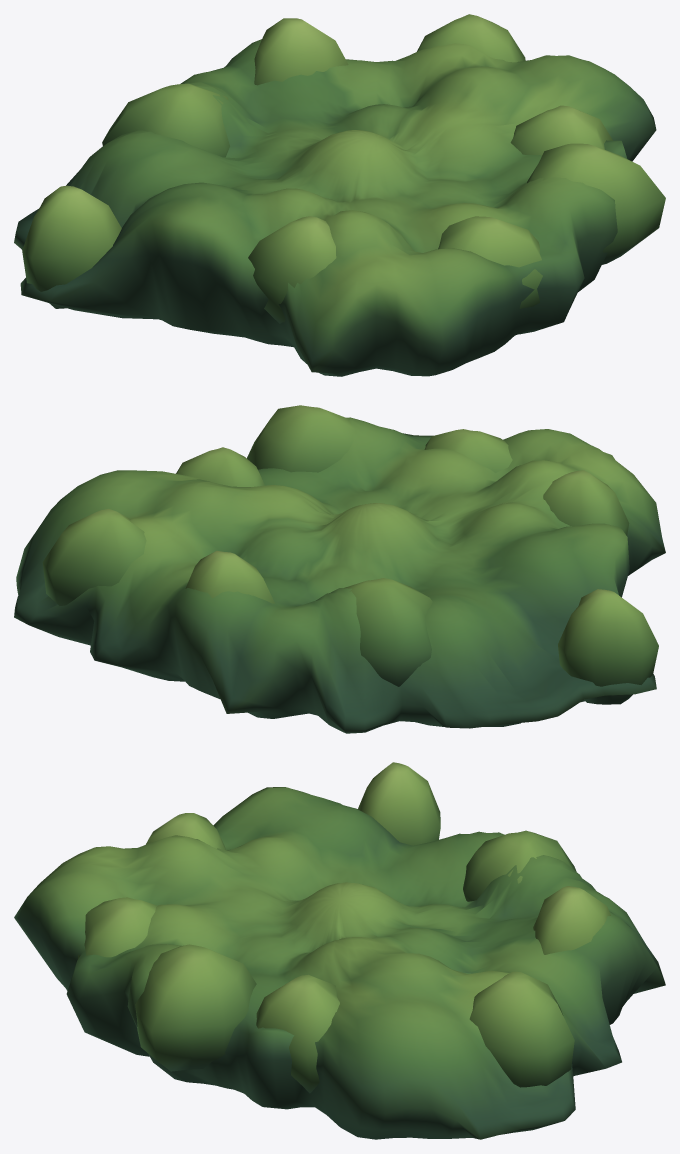
The model's file is ForestCorner_A.fbx.
3 views of the same model, one above another, from view 1: azimuth 30°, elevation 25°; view 2: azimuth 150°, elevation 25°; view 3: azimuth 270°, elevation 25° (orthographic). The views are drawn at different scales.
Visible parts, largest first — view 1: ForestCorner_A; view 2: ForestCorner_A; view 3: ForestCorner_A.
Part boxes in pixels (left/top/right/bottom): ForestCorner_A: left=14, top=14, right=665, bottom=376; ForestCorner_A: left=14, top=405, right=665, bottom=733; ForestCorner_A: left=14, top=762, right=665, bottom=1139.
Size of the model in its own units: 3486 by 801 by 3132.
1 material, 1 textured.
